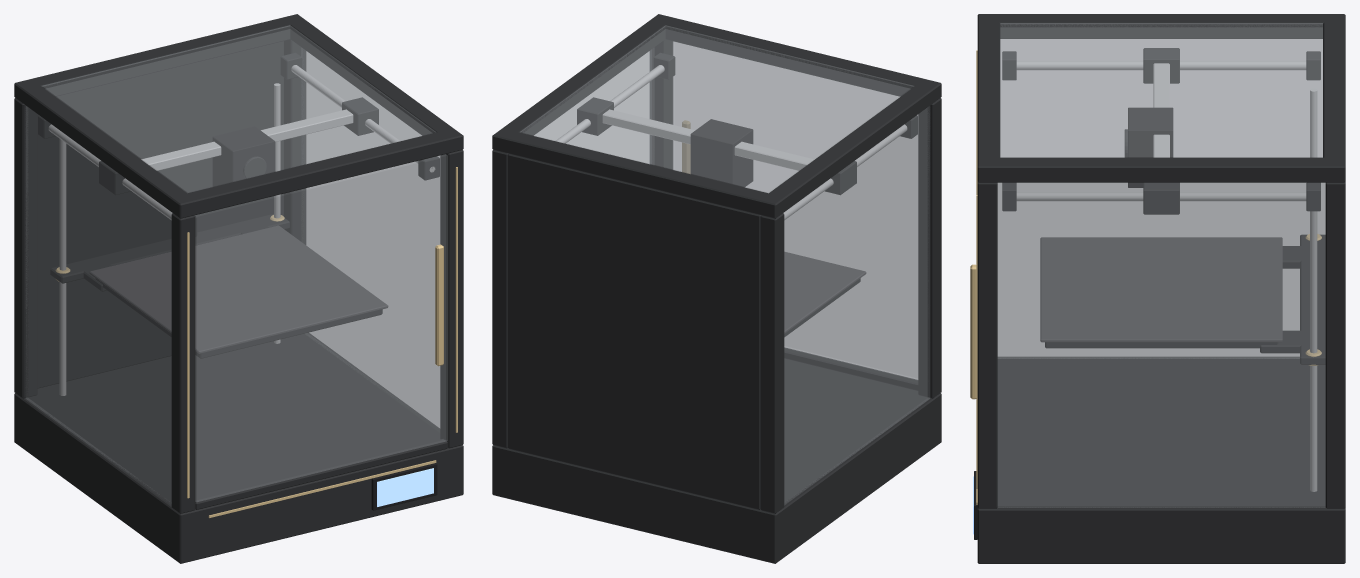
File: printer_proto_v001.glb
3 renders of one model, left to right at view 1: azimuth 30°, elevation 25°; view 2: azimuth 150°, elevation 25°; view 3: azimuth 270°, elevation 25°, orthographic. The views are drawn at different scales.
Parts seen in each view (by area): view 1: Frame_Structure, Door_Glass, Glass_Side_Panels, Lid_Glass, Bed_Plate, Bed_Carrier, Gantry_X_Beam, Toolhead, Rails_Y, Z_Lead_Screws, Trim_Gold, Display_Screen (+1 smaller); view 2: Frame_Structure, Glass_Side_Panels, Door_Glass, Lid_Glass, Gantry_X_Beam, Bed_Plate, Toolhead, Rails_Y; view 3: Glass_Side_Panels, Frame_Structure, Lid_Glass, Bed_Plate, Rails_Y, Bed_Carrier, Gantry_X_Beam, Z_Lead_Screws, Toolhead, Door_Handle, Trim_Gold.
Boxes of the visible parts, <box> form: Frame_Structure: <box>14,14,463,563</box>; Door_Glass: <box>195,154,447,501</box>; Glass_Side_Panels: <box>26,48,439,504</box>; Lid_Glass: <box>42,25,435,192</box>; Bed_Plate: <box>89,225,388,353</box>; Bed_Carrier: <box>50,214,382,358</box>; Gantry_X_Beam: <box>99,97,378,194</box>; Toolhead: <box>212,126,275,186</box>; Rails_Y: <box>38,53,439,236</box>; Z_Lead_Screws: <box>59,83,280,395</box>; Trim_Gold: <box>187,167,457,517</box>; Display_Screen: <box>371,463,437,510</box>; Frame_Structure: <box>492,14,941,563</box>; Glass_Side_Panels: <box>534,50,929,504</box>; Door_Glass: <box>673,42,917,379</box>; Lid_Glass: <box>520,25,913,192</box>; Gantry_X_Beam: <box>577,97,856,194</box>; Bed_Plate: <box>784,252,866,333</box>; Toolhead: <box>690,119,753,187</box>; Rails_Y: <box>555,53,917,219</box>; Glass_Side_Panels: <box>997,39,1325,507</box>; Frame_Structure: <box>977,14,1345,563</box>; Lid_Glass: <box>1000,23,1322,157</box>; Bed_Plate: <box>1040,237,1282,342</box>; Rails_Y: <box>1002,51,1320,211</box>; Bed_Carrier: <box>1045,234,1325,365</box>; Gantry_X_Beam: <box>1143,48,1179,214</box>; Z_Lead_Screws: <box>1310,88,1317,491</box>; Toolhead: <box>1124,107,1173,187</box>; Door_Handle: <box>970,264,976,399</box>; Trim_Gold: <box>976,50,977,504</box>.
Size of the model in its own units: 0.398 by 0.49 by 0.412.
